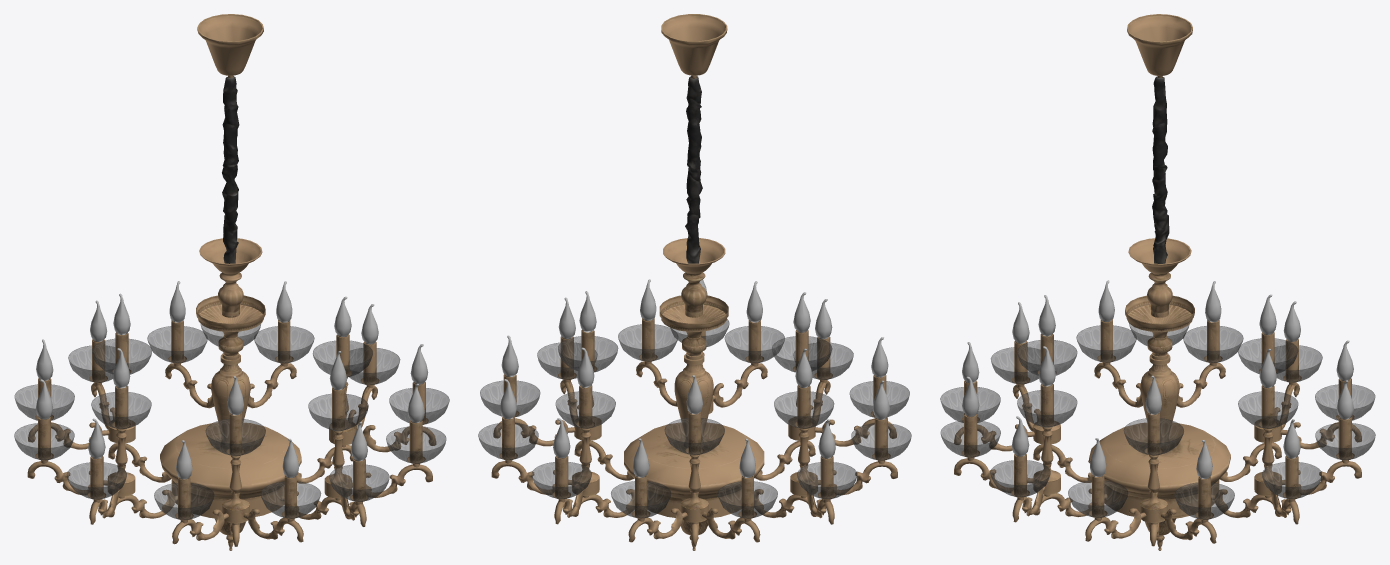
File: premium-ph-crystal-chandelier.glb
3 renders of one model, left to right at view 1: azimuth 30°, elevation 25°; view 2: azimuth 150°, elevation 25°; view 3: azimuth 270°, elevation 25°, orthographic.
Visible parts, largest first — view 1: Chandelier_03; view 2: Chandelier_03; view 3: Chandelier_03.
Boxes of the visible parts, bbox=[...] form: Chandelier_03: bbox=[14, 14, 449, 550]; Chandelier_03: bbox=[478, 14, 911, 550]; Chandelier_03: bbox=[940, 14, 1375, 550].
Size of the model in its own units: 0.7804 by 1.04 by 0.7854.
2 materials, 2 textured.
